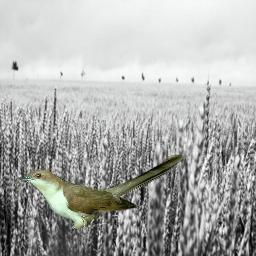Cuckoo: (17, 153, 184, 229)
